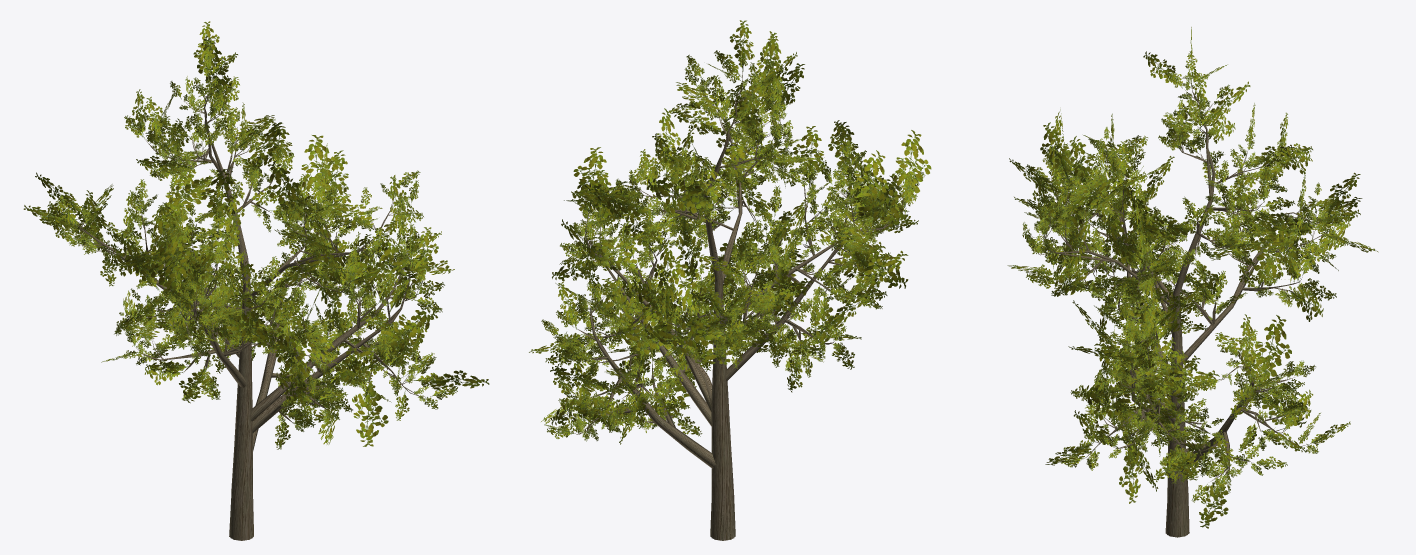
The model's file is tree_tupelo.glb.
The picture shows the model from 3 angles, left to right: view 1: azimuth 30°, elevation 25°; view 2: azimuth 150°, elevation 25°; view 3: azimuth 270°, elevation 25°; orthographic projection. The views are drawn at different scales.
Parts seen in each view (by area): view 1: LOD1_leaves, LOD0_leaves, LOD0_trunk, LOD1_trunk; view 2: LOD1_leaves, LOD0_leaves, LOD0_trunk, LOD1_trunk; view 3: LOD1_leaves, LOD0_leaves, LOD0_trunk, LOD1_trunk.
Boxes of the visible parts, <box> form: LOD1_leaves: <box>23,21,489,446</box>; LOD0_leaves: <box>37,48,457,449</box>; LOD0_trunk: <box>66,73,424,540</box>; LOD1_trunk: <box>78,75,419,538</box>; LOD1_leaves: <box>529,20,931,444</box>; LOD0_leaves: <box>541,48,925,441</box>; LOD0_trunk: <box>567,72,904,540</box>; LOD1_trunk: <box>577,73,902,538</box>; LOD1_leaves: <box>1007,27,1378,528</box>; LOD0_leaves: <box>1025,51,1349,502</box>; LOD0_trunk: <box>1035,79,1334,537</box>; LOD1_trunk: <box>1036,80,1328,535</box>.
Bounding box in the file's own units: 9.36 × 12.57 × 9.61.
2 materials, 2 textured.
